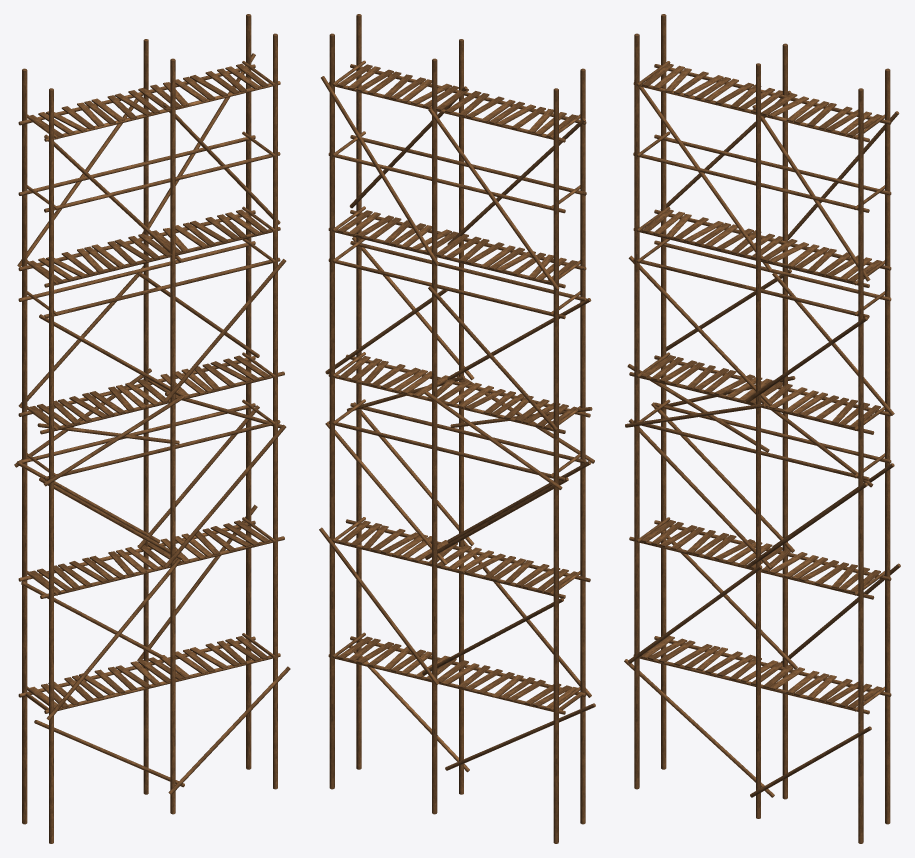
Rendered from SM_Scaffolding_02.fbx.
3 renders of one model, left to right at view 1: azimuth 30°, elevation 25°; view 2: azimuth 150°, elevation 25°; view 3: azimuth 330°, elevation 25°, orthographic.
Visible parts, largest first — view 1: SM_Scaffolding_02_LOD0; view 2: SM_Scaffolding_02_LOD0; view 3: SM_Scaffolding_02_LOD0.
Part boxes in pixels (x1,y1,x2,y2): SM_Scaffolding_02_LOD0: [14, 14, 290, 843]; SM_Scaffolding_02_LOD0: [319, 14, 595, 843]; SM_Scaffolding_02_LOD0: [624, 14, 900, 843].
Size of the model in its own units: 541 by 123 by 1551.
Materials: 1 (1 with a texture image).
